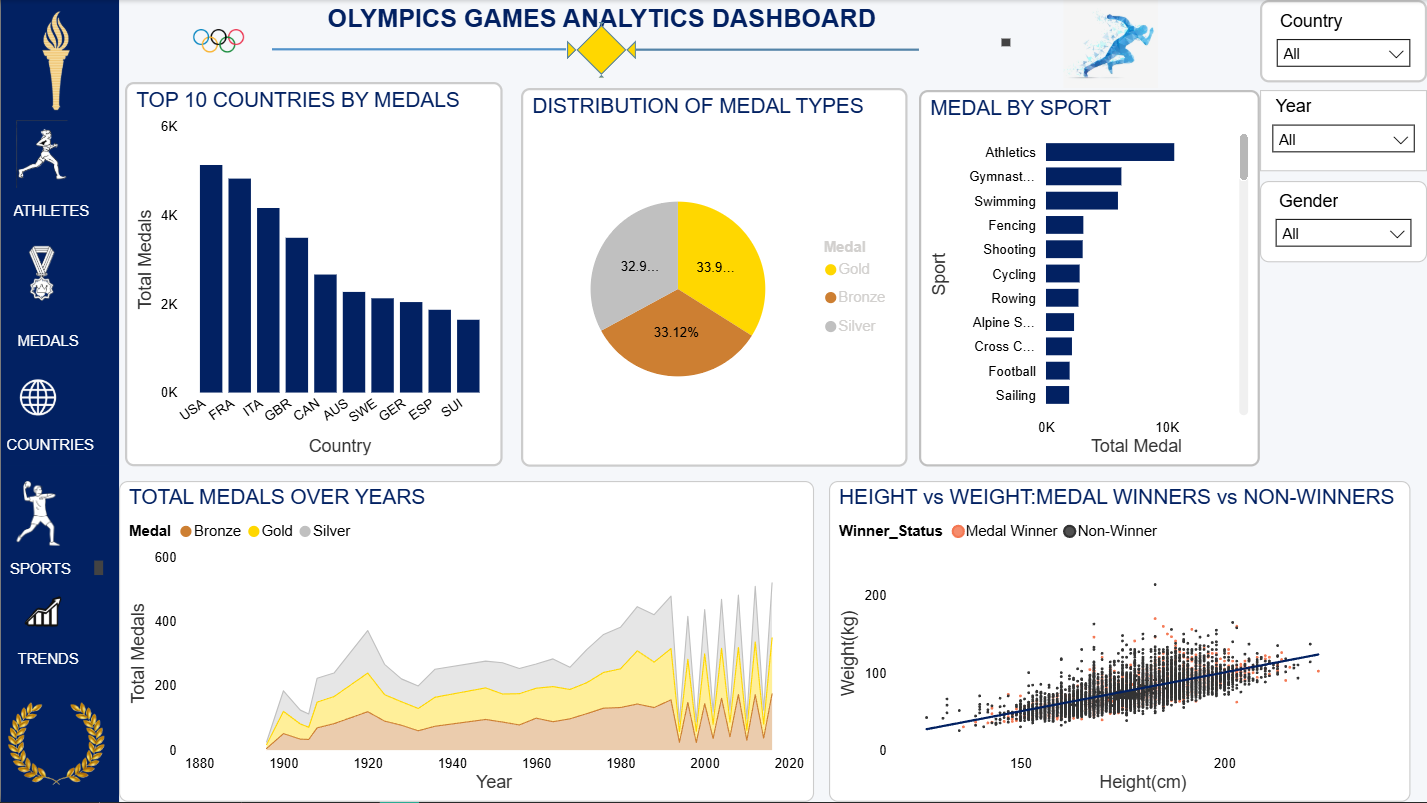

Layout of this report page (visuals, bound fields, positions):
{"tool":"powerbi","page":{"name":"MEDAL ANALYSIS","canvas":[1280,720],"ordinal":1},"visuals":[{"type":"pieChart","title":"DISTRIBUTION OF MEDAL TYPES","fields":{"Category":["olympics_cleaned.Medal"],"Y":["CountNonNull(olympics_cleaned.Name)"]},"box":[466.6,78.6,346.8,339.9],"z":0},{"type":"clusteredBarChart","title":"MEDAL BY SPORT","fields":{"Category":["olympics_cleaned.Sport"],"Y":["CountNonNull(olympics_cleaned.Medal)"]},"box":[824.2,80.6,305.5,337.9],"z":1000},{"type":"scatterChart","title":"HEIGHT vs WEIGHT:MEDAL WINNERS vs NON-WINNERS","fields":{"Category":["olympics_cleaned.Name"],"Series":["olympics_cleaned.Winner_Status"],"X":["Avg(olympics_cleaned.Height)"],"Y":["Avg(olympics_cleaned.Weight)"]},"box":[743.6,432.2,521.6,287.8],"z":2000},{"type":"clusteredColumnChart","title":"TOP 10 COUNTRIES BY MEDALS","fields":{"Category":["olympics_cleaned.NOC"],"Y":["CountNonNull(olympics_cleaned.Medal)"]},"box":[111,73.7,338.9,344.8],"z":3000},{"type":"textbox","title":"OLYMPICS GAMES ANALYTICS DASHBOARD","box":[287.9,3.9,623.5,42.8],"z":4000},{"type":"image","box":[862.5,0,267.2,78.6],"z":5000},{"type":"textbox","box":[0,0,105.9,720],"z":6000},{"type":"image","box":[0,623.5,99.2,88.5],"z":7000},{"type":"image","box":[9.7,9.7,79.8,88.5],"z":8000},{"type":"image","box":[110.9,3.9,168.3,66.1],"z":9000},{"type":"image","box":[5.8,510.6,61.3,72],"z":10000},{"type":"textbox","box":[9.7,578.7,89.5,29.2],"z":11000},{"type":"stackedAreaChart","title":"TOTAL MEDALS OVER YEARS","fields":{"Category":["olympics_cleaned.Year"],"Series":["olympics_cleaned.Medal"],"Y":["Measuress.Total Medals"]},"box":[106,431.9,624.4,287.9],"z":12000},{"type":"image","box":[5.8,213,61.3,65.2],"z":13000},{"type":"image","box":[2.9,331.7,61.3,50.6],"z":14000},{"type":"textbox","box":[9.7,293.7,87.5,38.9],"z":15000},{"type":"textbox","box":[0,387.1,97.3,31.1],"z":16000},{"type":"image","box":[0,431.9,67.1,58.4],"z":17000},{"type":"textbox","box":[2.9,498,94.3,23.3],"z":18000},{"type":"image","box":[2.9,108,67.1,61.3],"z":19000},{"type":"textbox","box":[5.8,177,83.6,36],"z":20000},{"type":"slicer","title":"Country","fields":{"Values":["olympics_cleaned.NOC"]},"box":[1130.1,0,149.9,73.6],"z":21000},{"type":"slicer","fields":{"Values":["olympics_cleaned.Sex"]},"box":[1130.1,162.5,149.9,72.7],"z":22000},{"type":"slicer","fields":{"Values":["olympics_cleaned.Year"]},"box":[1130,80.8,150,73],"z":23000},{"type":"shape","box":[243.6,9.8,264.3,68.8],"z":24000},{"type":"shape","box":[569.8,5.9,254.4,76.6],"z":25000},{"type":"shape","box":[507.9,19.6,61.9,50.1],"z":26000}]}

Visuals, with their boxes on the page's 1280x720 design canvas (x1, y1, x2, y2). These are canvas units, not pixel positions in the 1427x803 screenshot, which may show the page scaled, cropped or inside an application window:
"DISTRIBUTION OF MEDAL TYPES" pieChart: 467:79:813:418
"MEDAL BY SPORT" clusteredBarChart: 824:81:1130:418
"HEIGHT vs WEIGHT:MEDAL WINNERS vs NON-WINNERS" scatterChart: 744:432:1265:720
"TOP 10 COUNTRIES BY MEDALS" clusteredColumnChart: 111:74:450:418
"OLYMPICS GAMES ANALYTICS DASHBOARD" textbox: 288:4:911:47
image: 862:0:1130:79
textbox: 0:0:106:720
image: 0:624:99:712
image: 10:10:90:98
image: 111:4:279:70
image: 6:511:67:583
textbox: 10:579:99:608
"TOTAL MEDALS OVER YEARS" stackedAreaChart: 106:432:730:720
image: 6:213:67:278
image: 3:332:64:382
textbox: 10:294:97:333
textbox: 0:387:97:418
image: 0:432:67:490
textbox: 3:498:97:521
image: 3:108:70:169
textbox: 6:177:89:213
"Country" slicer: 1130:0:1280:74
slicer - olympics_cleaned.Sex: 1130:162:1280:235
slicer - olympics_cleaned.Year: 1130:81:1280:154
shape: 244:10:508:79
shape: 570:6:824:82
shape: 508:20:570:70
